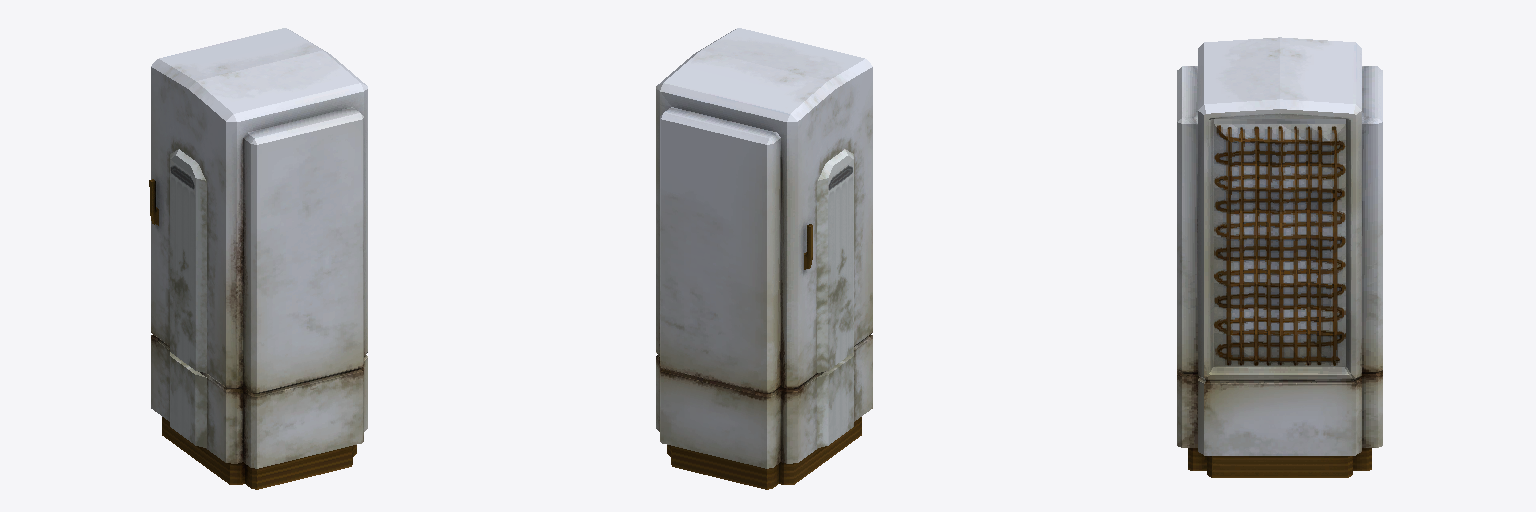
The picture shows the model from 3 angles: view 1: azimuth 30°, elevation 25°; view 2: azimuth 150°, elevation 25°; view 3: azimuth 270°, elevation 25°; orthographic projection.
Visible parts, largest first — view 1: fridge_2; view 2: fridge_2; view 3: fridge_2.
Part boxes in pixels (x1,y1,x2,y2): fridge_2: (149,28,367,489); fridge_2: (656,28,872,489); fridge_2: (1177,37,1382,477).
Bounding box in the file's own units: 81.34 × 197 × 96.92.
1 materials, 1 textured.